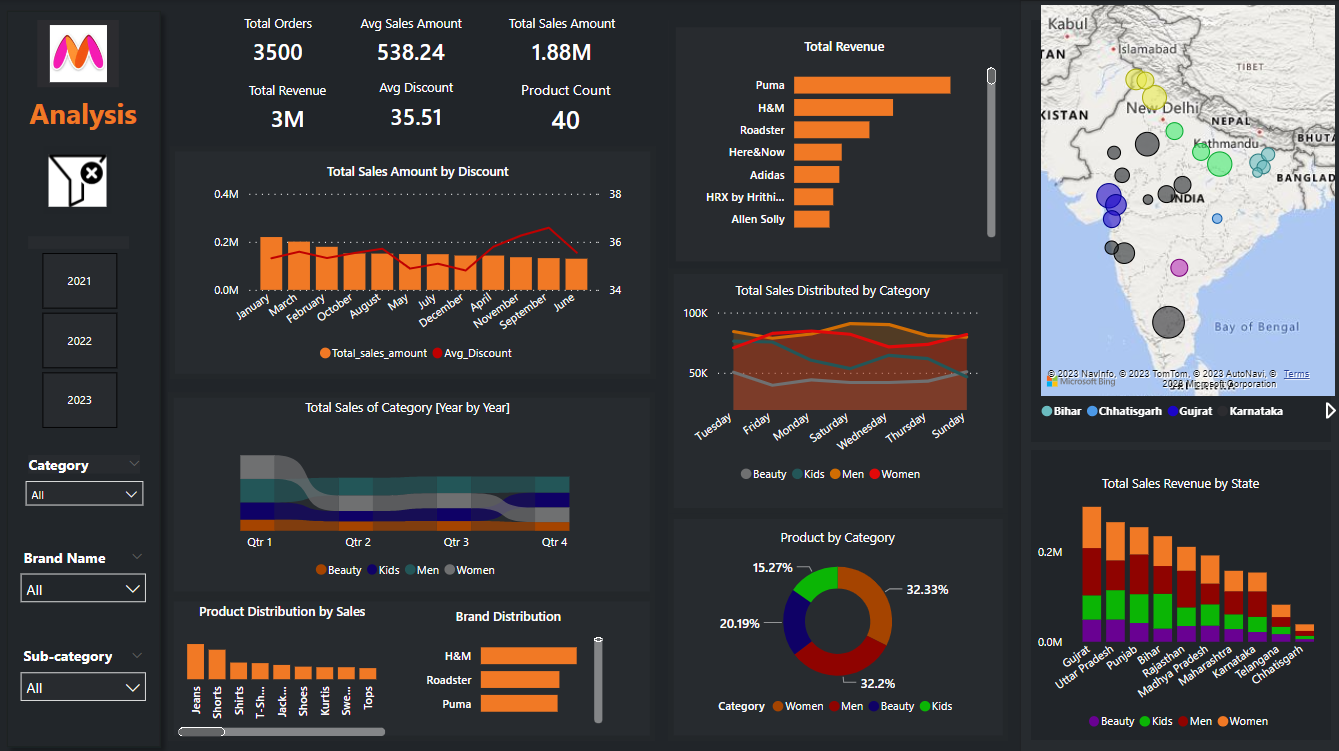

The page's visual inventory and layout, read from the dashboard file:
{"tool":"powerbi","page":{"name":"Main","canvas":[1280,720],"ordinal":0},"visuals":[{"type":"shape","box":[975.5,0,304.9,719.4],"z":0},{"type":"shape","box":[975.1,0,304.9,719.4],"z":1000},{"type":"shape","box":[975.1,0.6,304.9,719.4],"z":2000},{"type":"shape","box":[975.1,0.6,304.9,719.4],"z":3000},{"type":"shape","box":[975.5,0,304.9,719.4],"z":4000},{"type":"shape","box":[1,1,164.6,719.4],"z":5000},{"type":"shape","box":[975.1,0.6,304.9,719.4],"z":6000},{"type":"shape","box":[975.1,0.6,304.9,719.4],"z":7000},{"type":"shape","box":[975.1,0.6,304.9,719.4],"z":8000},{"type":"shape","box":[975.1,0.6,304.9,719.4],"z":9000},{"type":"shape","box":[975.1,0.6,304.9,719.4],"z":10000},{"type":"shape","box":[975.1,0.6,304.9,719.4],"z":11000},{"type":"shape","box":[975.1,0.6,304.9,719.4],"z":12000},{"type":"shape","box":[975.1,0.6,304.9,719.4],"z":13000},{"type":"shape","box":[975.1,0.6,304.9,719.4],"z":14000},{"type":"shape","box":[975.1,0.6,304.9,719.4],"z":15000},{"type":"shape","box":[975.1,0.6,304.9,719.4],"z":16000},{"type":"shape","box":[975.1,0.6,304.9,719.4],"z":17000},{"type":"shape","box":[975.1,0.6,304.9,719.4],"z":18000},{"type":"shape","box":[975.1,0.6,304.9,719.4],"z":19000},{"type":"shape","box":[975.1,0.6,304.9,719.4],"z":20000},{"type":"shape","box":[975.1,0.6,304.9,719.4],"z":21000},{"type":"shape","box":[975.1,0.6,304.9,719.4],"z":22000},{"type":"shape","box":[975.1,0.6,304.9,719.4],"z":23000},{"type":"shape","box":[975.1,0.6,304.9,719.4],"z":24000},{"type":"shape","box":[975.1,0.6,304.9,719.4],"z":25000},{"type":"shape","box":[975.1,0.6,304.9,719.4],"z":26000},{"type":"shape","box":[975.1,0.6,304.9,719.4],"z":27000},{"type":"shape","box":[975.1,0.6,304.9,719.4],"z":28000},{"type":"shape","box":[975.1,0.6,304.9,719.4],"z":29000},{"type":"shape","box":[975.1,0.6,304.9,719.4],"z":30000},{"type":"shape","box":[975.1,0.6,304.9,719.4],"z":31000},{"type":"shape","box":[975.1,0.6,304.9,719.4],"z":32000},{"type":"shape","box":[975.1,0.6,304.9,719.4],"z":33000},{"type":"shape","box":[975.1,0.6,304.9,719.4],"z":34000},{"type":"shape","box":[975.1,0.6,304.9,719.4],"z":35000},{"type":"shape","box":[975.1,0.6,304.9,719.4],"z":36000},{"type":"shape","box":[975.1,0.6,304.9,719.4],"z":37000},{"type":"shape","box":[975.1,0.6,304.9,719.4],"z":38000},{"type":"shape","box":[975.1,0.6,304.9,719.4],"z":39000},{"type":"shape","box":[975.1,0.6,304.9,719.4],"z":40000},{"type":"shape","box":[975.1,0.6,304.9,719.4],"z":41000},{"type":"shape","box":[975.1,0.6,304.9,719.4],"z":42000},{"type":"shape","box":[975.1,0.6,304.9,719.4],"z":43000},{"type":"shape","box":[975.1,0.6,304.9,719.4],"z":44000},{"type":"shape","box":[975.1,0.6,304.9,719.4],"z":45000},{"type":"shape","box":[975.1,0.6,304.9,719.4],"z":46000},{"type":"shape","box":[975.1,0.6,304.9,719.4],"z":47000},{"type":"shape","box":[975.1,0.6,304.9,719.4],"z":48000},{"type":"shape","box":[975.1,0.6,304.9,719.4],"z":49000},{"type":"shape","box":[975.1,0.6,304.9,719.4],"z":50000},{"type":"shape","box":[975.1,0.6,304.9,719.4],"z":51000},{"type":"shape","box":[975.1,0.6,304.9,719.4],"z":52000},{"type":"shape","box":[975.1,0.6,304.9,719.4],"z":53000},{"type":"shape","box":[975.1,0.6,304.9,719.4],"z":54000},{"type":"shape","box":[975.1,0.6,304.9,719.4],"z":55000},{"type":"shape","box":[975.1,0.6,304.9,719.4],"z":56000},{"type":"shape","box":[975.1,0.6,304.9,719.4],"z":57000},{"type":"shape","box":[985.1,428.8,285.9,276.3],"z":58000},{"type":"shape","box":[639.7,18.9,323,237],"z":59000},{"type":"shape","box":[164.6,567.3,463.5,137.4],"z":61000},{"type":"shape","box":[639.7,488.7,323,216],"z":62000},{"type":"shape","box":[165.7,139.5,462.5,221.3],"z":63000},{"type":"shape","box":[639.7,255.9,323,232.8],"z":64000},{"type":"shape","box":[164.6,373.3,463.5,194],"z":65000},{"type":"textbox","box":[13.6,84.9,139.5,54.5],"z":66000},{"type":"slicer","title":"Category","fields":{"Values":["Date_table.Year"]},"box":[17.8,220.2,121.6,194],"z":67000},{"type":"card","title":"Total Orders","fields":{"Values":["Measures_Table.Total_orders"]},"box":[211.8,14.7,113.3,56.6],"z":68000},{"type":"card","title":"Avg Discount","fields":{"Values":["Measures_Table.Avg_Discount"]},"box":[334.3,75.5,131.1,59.8],"z":69000},{"type":"card","title":"Avg Sales Amount","fields":{"Values":["Measures_Table.Avg_sales_amount"]},"box":[325.1,14.7,140.5,56.6],"z":70000},{"type":"card","title":"Total Sales Amount","fields":{"Values":["Measures_Table.Total_sales_amount"]},"box":[471.1,14.7,135.3,56.6],"z":71000},{"type":"card","title":"Total Revenue","fields":{"Values":["Measures_Table.Sum_original_price"]},"box":[220.2,77.6,114.3,56.6],"z":72000},{"type":"card","title":"Product Count","fields":{"Values":["Count(dim_products.Product Name)"]},"box":[487.6,76.6,109.1,59.8],"z":73000},{"type":"barChart","title":"Total Revenue","fields":{"Y":["Sum(fact_orders.Sales Amount)"],"Category":["dim_products.Brand Name"]},"box":[658.6,35.7,298.9,195.1],"z":74000},{"type":"columnChart","title":"Total Sales Revenue by State","fields":{"Category":["dim_customers.State"],"Y":["Sum(fact_orders.Sales Amount)"],"Series":["dim_products.Category"]},"box":[986.3,452.6,282.3,252.5],"z":75000},{"type":"donutChart","title":"Product by Category","fields":{"Y":["CountNonNull(dim_products.Product ID)"],"Category":["dim_products.Category"]},"box":[658.6,503.4,286.3,186.7],"z":76000},{"type":"barChart","title":"Brand Distribution","fields":{"Category":["dim_products.Brand Name"],"Y":["CountNonNull(dim_products.Brand Name)"]},"box":[392.2,578.9,189.8,115.4],"z":77000},{"type":"lineStackedColumnComboChart","title":"Total Sales Amount by Discount","fields":{"Category":["Date_table.Month_NAME"],"Y":["Measures_Table.Total_sales_amount"],"Y2":["Measures_Table.Avg_Discount"]},"box":[202.4,155.2,398.5,199.2],"z":78000},{"type":"ribbonChart","title":"Total Sales of Category [Year by Year]","fields":{"Category":["Date_table.Date.Variation.Date Hierarchy.Year","Date_table.Date.Variation.Date Hierarchy.Quarter","Date_table.Date.Variation.Date Hierarchy.Month","Date_table.Date.Variation.Date Hierarchy.Day"],"Y":["Measures_Table.Total_sales_amount"],"Series":["dim_products.Category"]},"box":[190.9,379.6,402.7,180.4],"z":79000},{"type":"columnChart","title":"Product Distribution by Sales","fields":{"Category":["dim_products.Product Name"],"Y":["CountNonNull(dim_products.Product Name)"]},"box":[168.8,573.6,206.6,132.1],"z":80000},{"type":"areaChart","title":"Total Sales Distributed by Category","fields":{"Category":["Date_table.Day of Week"],"Y":["Measures_Table.Total_sales_amount"],"Series":["dim_products.Category"]},"box":[649.1,267.4,295.7,201.3],"z":81000},{"type":"slicer","title":"Brand Name","fields":{"Values":["dim_products.Brand Name"]},"box":[13.6,517,139.5,79.7],"z":83000},{"type":"slicer","title":"Category","fields":{"Values":["dim_products.Category"]},"box":[17.8,428.9,132.1,73.4],"z":84000},{"type":"slicer","title":"Sub-Category","fields":{"Values":["dim_products.Sub-category"]},"box":[13.6,610.3,139.5,79.7],"z":85000},{"type":"image","box":[45.1,139.5,65,65],"z":86000},{"type":"image","box":[38.8,18.9,77.6,64],"z":87000},{"type":"azureMap","fields":{"Category":["dim_customers.State"],"Size":["Measures_Table.Total_orders"]},"box":[971.4,14.3,300,400],"z":87001}]}

Visuals, with their boxes in screenshot pixels (x1, y1, x2, y2), scaled from the page's 1280x720 canvas onto the 1339x751 screenshot:
shape: x1=1020 y1=0 x2=1338 y2=750
shape: x1=1020 y1=0 x2=1338 y2=750
shape: x1=1020 y1=1 x2=1338 y2=750
shape: x1=1020 y1=1 x2=1338 y2=750
shape: x1=1020 y1=0 x2=1338 y2=750
shape: x1=1 y1=1 x2=173 y2=750
shape: x1=1020 y1=1 x2=1338 y2=750
shape: x1=1020 y1=1 x2=1338 y2=750
shape: x1=1020 y1=1 x2=1338 y2=750
shape: x1=1020 y1=1 x2=1338 y2=750
shape: x1=1020 y1=1 x2=1338 y2=750
shape: x1=1020 y1=1 x2=1338 y2=750
shape: x1=1020 y1=1 x2=1338 y2=750
shape: x1=1020 y1=1 x2=1338 y2=750
shape: x1=1020 y1=1 x2=1338 y2=750
shape: x1=1020 y1=1 x2=1338 y2=750
shape: x1=1020 y1=1 x2=1338 y2=750
shape: x1=1020 y1=1 x2=1338 y2=750
shape: x1=1020 y1=1 x2=1338 y2=750
shape: x1=1020 y1=1 x2=1338 y2=750
shape: x1=1020 y1=1 x2=1338 y2=750
shape: x1=1020 y1=1 x2=1338 y2=750
shape: x1=1020 y1=1 x2=1338 y2=750
shape: x1=1020 y1=1 x2=1338 y2=750
shape: x1=1020 y1=1 x2=1338 y2=750
shape: x1=1020 y1=1 x2=1338 y2=750
shape: x1=1020 y1=1 x2=1338 y2=750
shape: x1=1020 y1=1 x2=1338 y2=750
shape: x1=1020 y1=1 x2=1338 y2=750
shape: x1=1020 y1=1 x2=1338 y2=750
shape: x1=1020 y1=1 x2=1338 y2=750
shape: x1=1020 y1=1 x2=1338 y2=750
shape: x1=1020 y1=1 x2=1338 y2=750
shape: x1=1020 y1=1 x2=1338 y2=750
shape: x1=1020 y1=1 x2=1338 y2=750
shape: x1=1020 y1=1 x2=1338 y2=750
shape: x1=1020 y1=1 x2=1338 y2=750
shape: x1=1020 y1=1 x2=1338 y2=750
shape: x1=1020 y1=1 x2=1338 y2=750
shape: x1=1020 y1=1 x2=1338 y2=750
shape: x1=1020 y1=1 x2=1338 y2=750
shape: x1=1020 y1=1 x2=1338 y2=750
shape: x1=1020 y1=1 x2=1338 y2=750
shape: x1=1020 y1=1 x2=1338 y2=750
shape: x1=1020 y1=1 x2=1338 y2=750
shape: x1=1020 y1=1 x2=1338 y2=750
shape: x1=1020 y1=1 x2=1338 y2=750
shape: x1=1020 y1=1 x2=1338 y2=750
shape: x1=1020 y1=1 x2=1338 y2=750
shape: x1=1020 y1=1 x2=1338 y2=750
shape: x1=1020 y1=1 x2=1338 y2=750
shape: x1=1020 y1=1 x2=1338 y2=750
shape: x1=1020 y1=1 x2=1338 y2=750
shape: x1=1020 y1=1 x2=1338 y2=750
shape: x1=1020 y1=1 x2=1338 y2=750
shape: x1=1020 y1=1 x2=1338 y2=750
shape: x1=1020 y1=1 x2=1338 y2=750
shape: x1=1020 y1=1 x2=1338 y2=750
shape: x1=1031 y1=447 x2=1330 y2=735
shape: x1=669 y1=20 x2=1007 y2=267
shape: x1=172 y1=592 x2=657 y2=735
shape: x1=669 y1=510 x2=1007 y2=735
shape: x1=173 y1=146 x2=657 y2=376
shape: x1=669 y1=267 x2=1007 y2=510
shape: x1=172 y1=389 x2=657 y2=592
textbox: x1=14 y1=89 x2=160 y2=145
"Category" slicer: x1=19 y1=230 x2=146 y2=432
"Total Orders" card: x1=222 y1=15 x2=340 y2=74
"Avg Discount" card: x1=350 y1=79 x2=487 y2=141
"Avg Sales Amount" card: x1=340 y1=15 x2=487 y2=74
"Total Sales Amount" card: x1=493 y1=15 x2=634 y2=74
"Total Revenue" card: x1=230 y1=81 x2=350 y2=140
"Product Count" card: x1=510 y1=80 x2=624 y2=142
"Total Revenue" barChart: x1=689 y1=37 x2=1002 y2=241
"Total Sales Revenue by State" columnChart: x1=1032 y1=472 x2=1327 y2=735
"Product by Category" donutChart: x1=689 y1=525 x2=988 y2=720
"Brand Distribution" barChart: x1=410 y1=604 x2=609 y2=724
"Total Sales Amount by Discount" lineStackedColumnComboChart: x1=212 y1=162 x2=629 y2=370
"Total Sales of Category [Year by Year]" ribbonChart: x1=200 y1=396 x2=621 y2=584
"Product Distribution by Sales" columnChart: x1=177 y1=598 x2=393 y2=736
"Total Sales Distributed by Category" areaChart: x1=679 y1=279 x2=988 y2=489
"Brand Name" slicer: x1=14 y1=539 x2=160 y2=622
"Category" slicer: x1=19 y1=447 x2=157 y2=524
"Sub-Category" slicer: x1=14 y1=637 x2=160 y2=720
image: x1=47 y1=146 x2=115 y2=213
image: x1=41 y1=20 x2=122 y2=86
azureMap - dim_customers.State x Measures_Table.Total_orders: x1=1016 y1=15 x2=1330 y2=432
